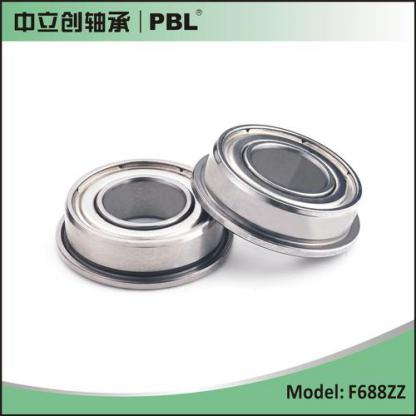FOD: (47, 155, 237, 293), (189, 122, 367, 263)
